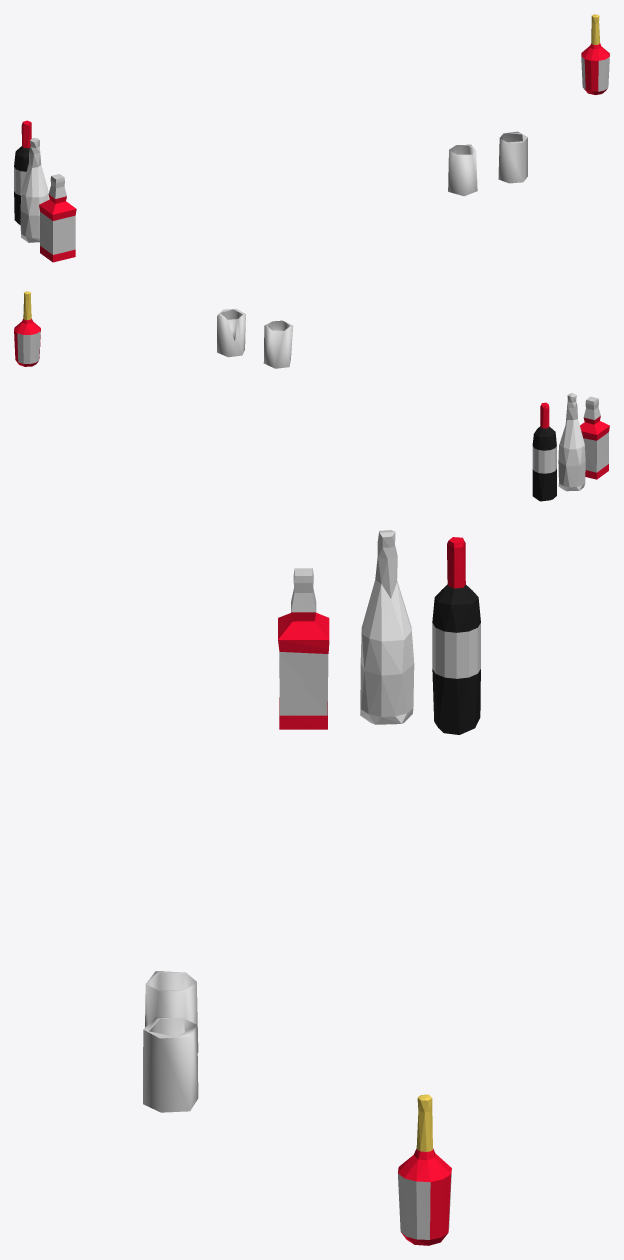
The model's file is drinks.glb.
The picture shows the model from 3 angles, top to bottom: view 1: azimuth 30°, elevation 25°; view 2: azimuth 150°, elevation 25°; view 3: azimuth 270°, elevation 25°; orthographic projection. The views are drawn at different scales.
Visible parts, largest first — view 1: drinks; view 2: drinks; view 3: drinks.
Part boxes in pixels (bbox=[...]): drinks: bbox=[14, 14, 609, 262]; drinks: bbox=[14, 291, 609, 501]; drinks: bbox=[143, 530, 480, 1245].
Size of the model in its own units: 2.59 by 0.4178 by 0.6799.
